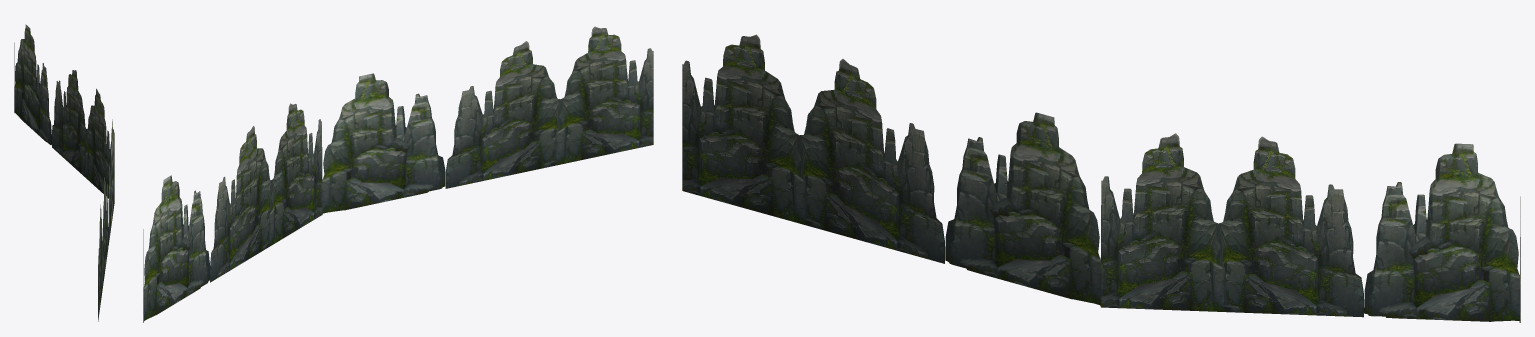
File: zz_bejingshu_2.FBX
3 renders of one model, left to right at view 1: azimuth 30°, elevation 25°; view 2: azimuth 150°, elevation 25°; view 3: azimuth 270°, elevation 25°, orthographic. The views are drawn at different scales.
Parts seen in each view (by area): view 1: zz_bejingshu_2; view 2: zz_bejingshu_2; view 3: zz_bejingshu_2.
Boxes of the visible parts, x1,y1,x2,y2 form: zz_bejingshu_2: (14, 24, 114, 321); zz_bejingshu_2: (143, 26, 653, 322); zz_bejingshu_2: (682, 34, 1520, 322).
Size of the model in its own units: 5569 by 14946 by 3482.
